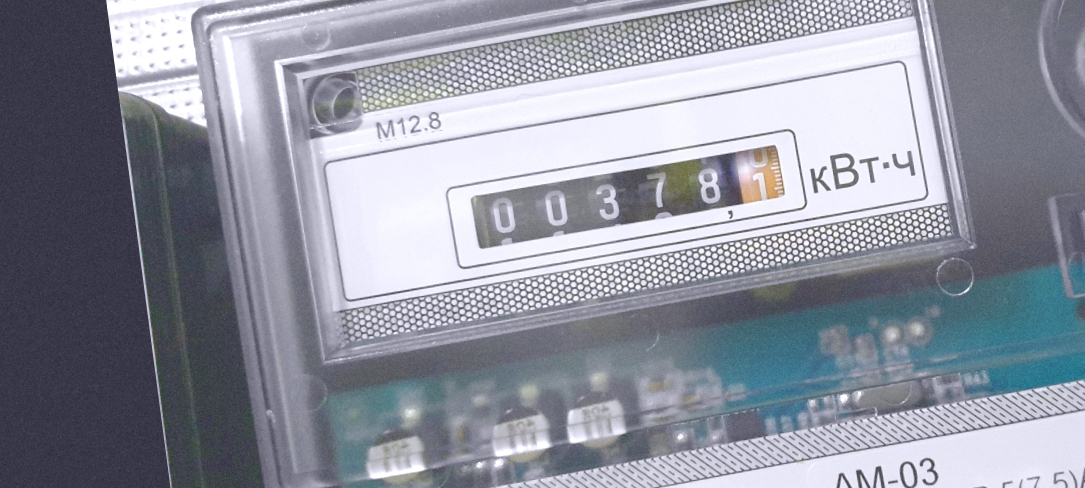0: (488, 192, 520, 235), (540, 186, 570, 228), (745, 145, 770, 169)
1: (748, 168, 771, 202)
3: (591, 179, 622, 223)
7: (643, 168, 671, 210)
8: (694, 163, 723, 206)
screen: (446, 123, 807, 261)
